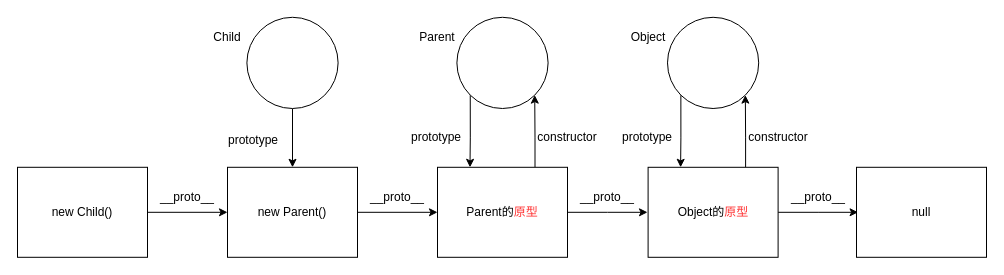
The diagram is 1004 pixels wide and 275 high, and some of its shapes have lost their labels. Each missing label, with the centre of its shape:
"Child的构造函数" belongs at (x=292, y=62).
"Object的构造函数" belongs at (x=712, y=62).
"Parent的构造函数" belongs at (x=502, y=62).
